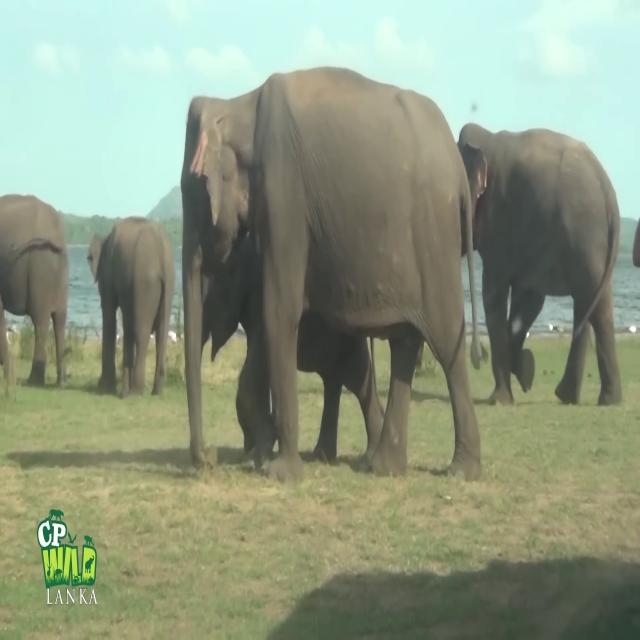Elephant: (180, 65, 487, 484), (456, 121, 622, 407), (86, 215, 175, 398), (0, 192, 69, 388)
